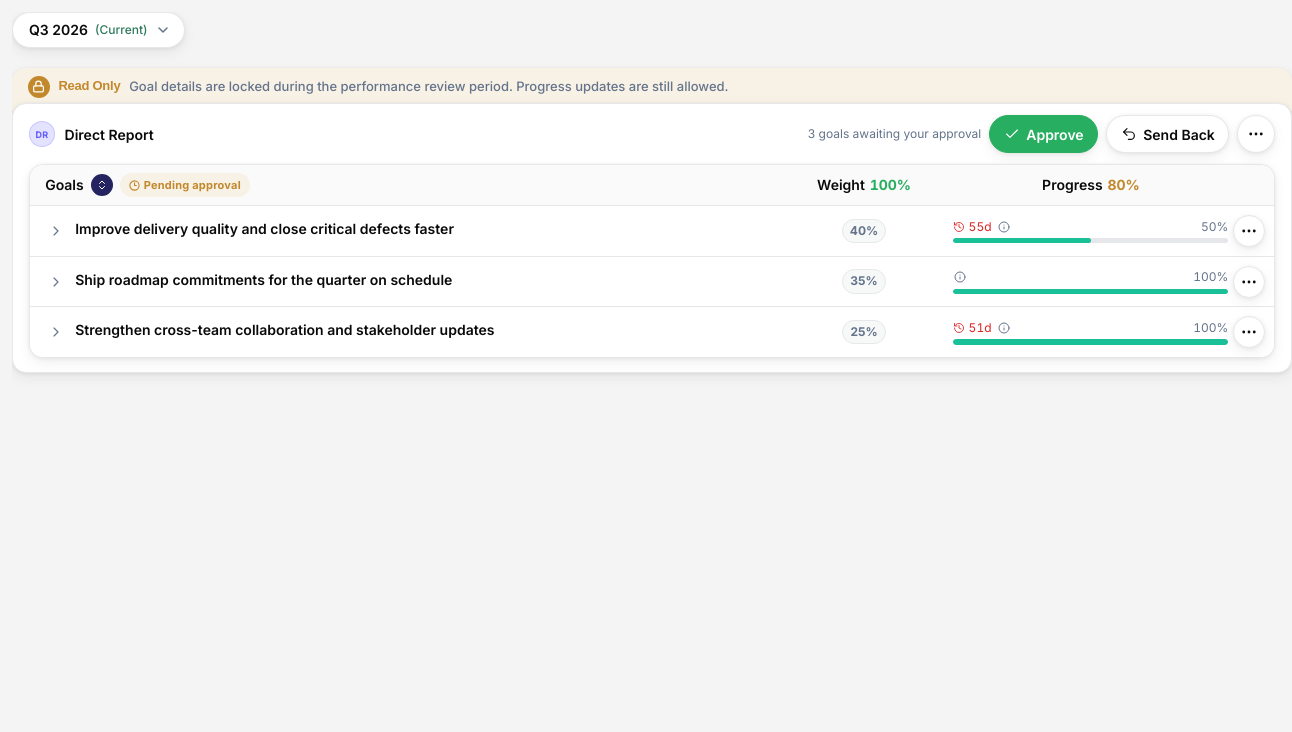
Test case: GoalsPersonDetail manager review › shows a success toast after sending goals back
Click the button "Send Back": click(1168, 134) top-left (1106, 115), bottom-right (1229, 153)
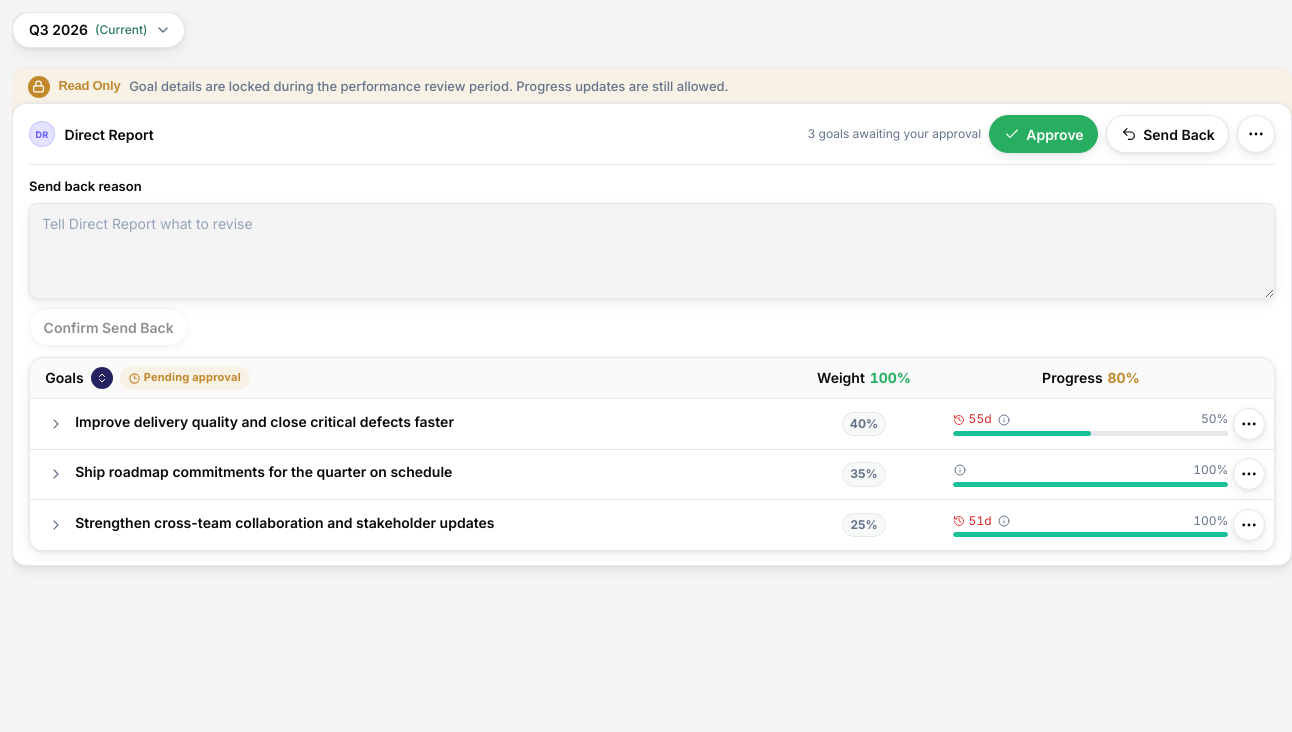
In the text box labelled "Send back reason": (652, 251) top-left (29, 203), bottom-right (1275, 299), type "Please add a metric."
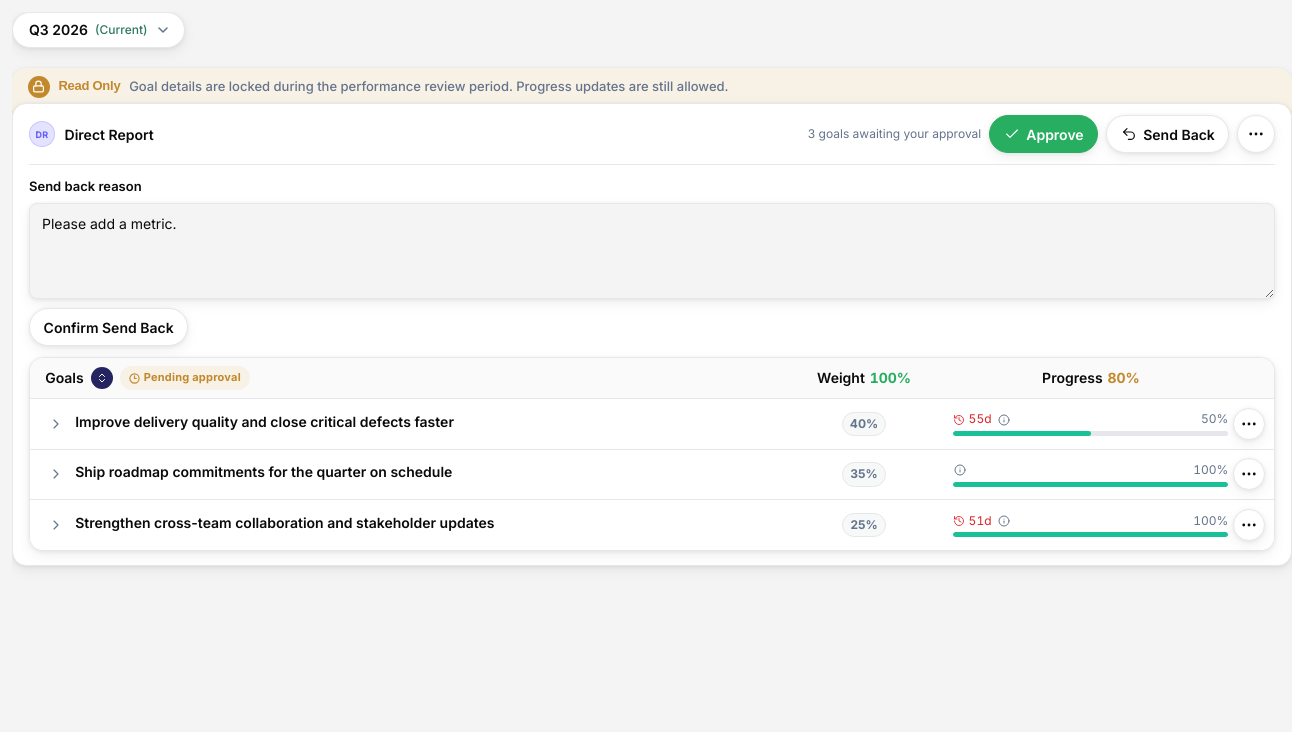
Click the button "Confirm Send Back": click(109, 327) top-left (29, 308), bottom-right (188, 346)
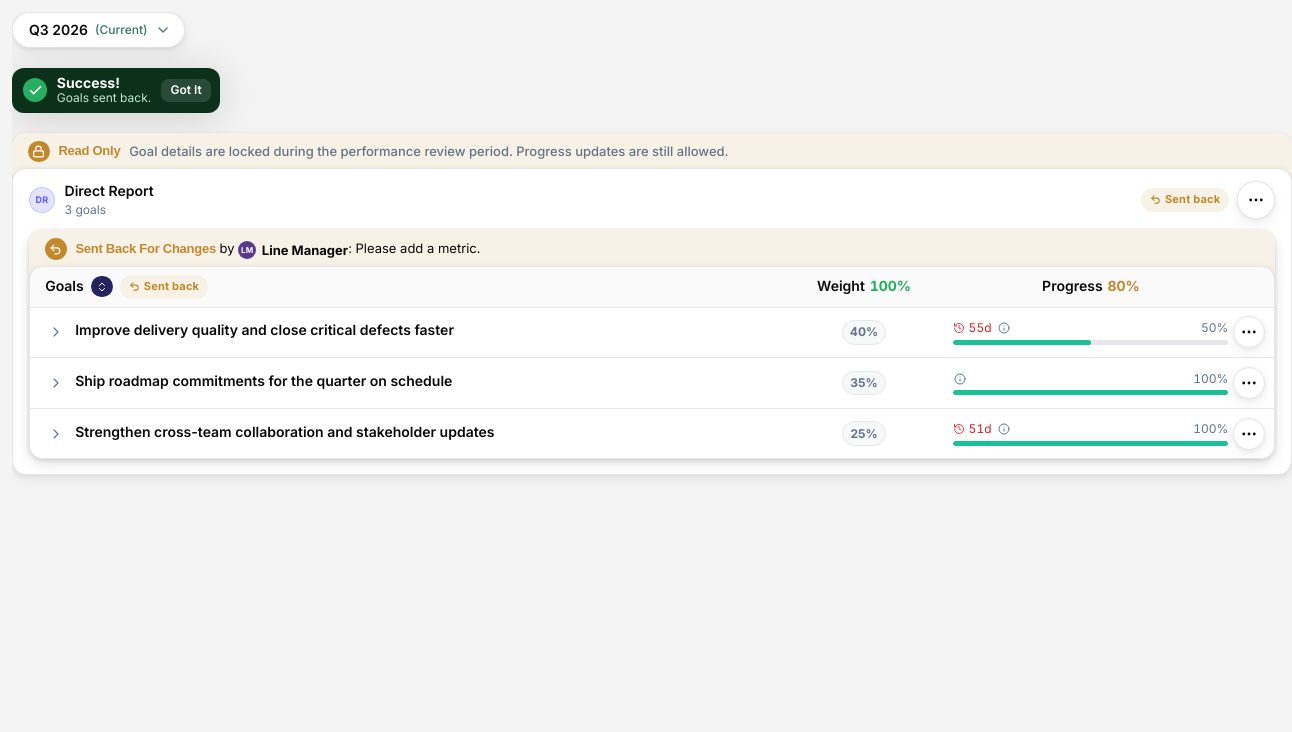
Expected: the text "Goals sent back." is shown, top-left (57, 91), bottom-right (151, 106)
Expected: the text "Success!" is shown, top-left (57, 74), bottom-right (120, 91)
